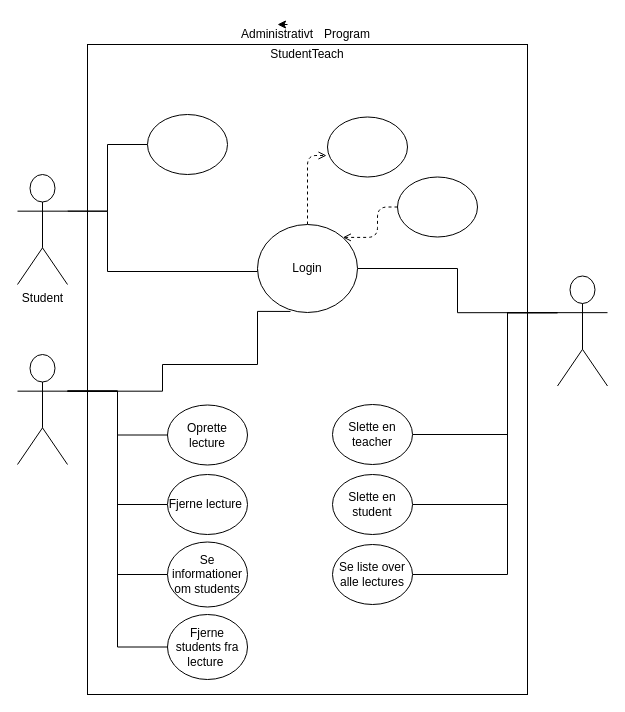
Some shapes in this 625 by 712 pixel diagram are drawn without their labels. The centre of each missing label's shape, as x and y in pixels:
"Admin" goes at point (582, 330).
"Check for korrekt login" goes at point (367, 146).
"Fejl ved login" goes at point (437, 206).
"Teacher" goes at point (42, 409).
"Tilmelde sig lecture" goes at point (187, 144).
